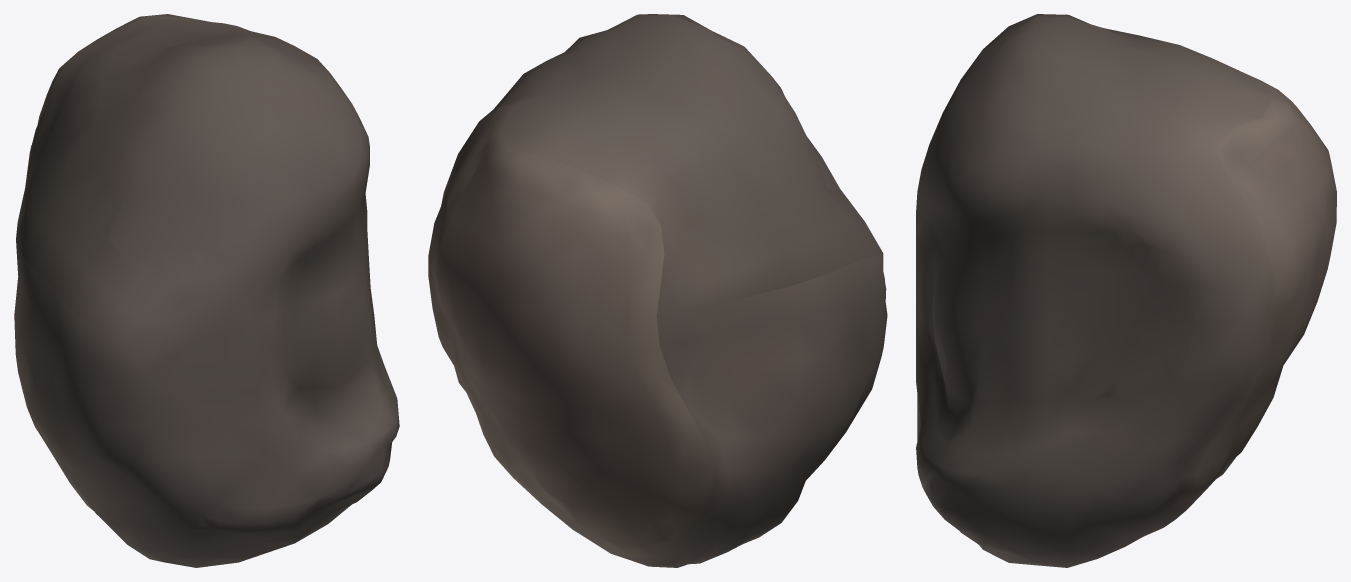
File: RockLarge.007.glb
3 views of the same model, side by side, from view 1: azimuth 30°, elevation 25°; view 2: azimuth 150°, elevation 25°; view 3: azimuth 270°, elevation 25° (orthographic). The views are drawn at different scales.
Parts seen in each view (by area): view 1: RockLarge.007; view 2: RockLarge.007; view 3: RockLarge.007.
Boxes of the visible parts, bbox=[...] form: RockLarge.007: bbox=[14, 14, 399, 567]; RockLarge.007: bbox=[428, 14, 887, 567]; RockLarge.007: bbox=[916, 14, 1336, 567].
Bounding box in the file's own units: 838 × 1214 × 882.
